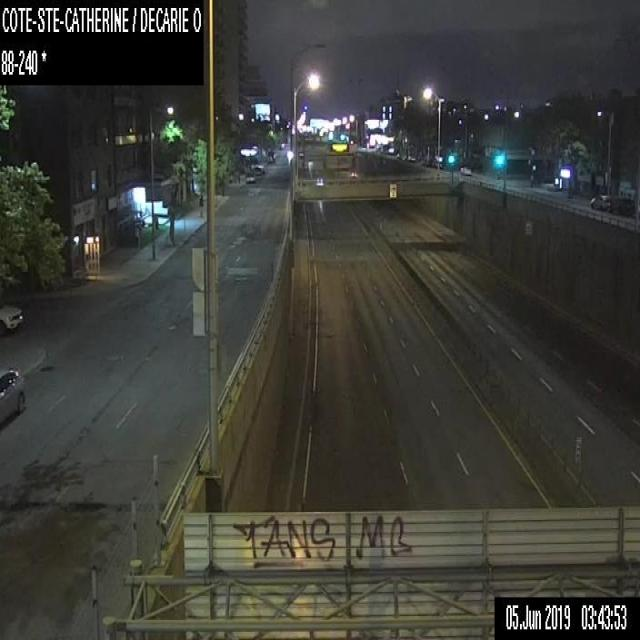vehicle: (0, 365, 26, 427), (0, 299, 22, 336), (609, 198, 632, 214), (589, 194, 609, 210), (253, 166, 264, 174), (431, 160, 441, 168), (460, 166, 470, 174), (421, 159, 431, 166), (246, 174, 254, 181), (316, 175, 322, 181), (351, 171, 356, 177)
